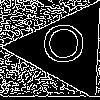O: (40, 24, 87, 72)
